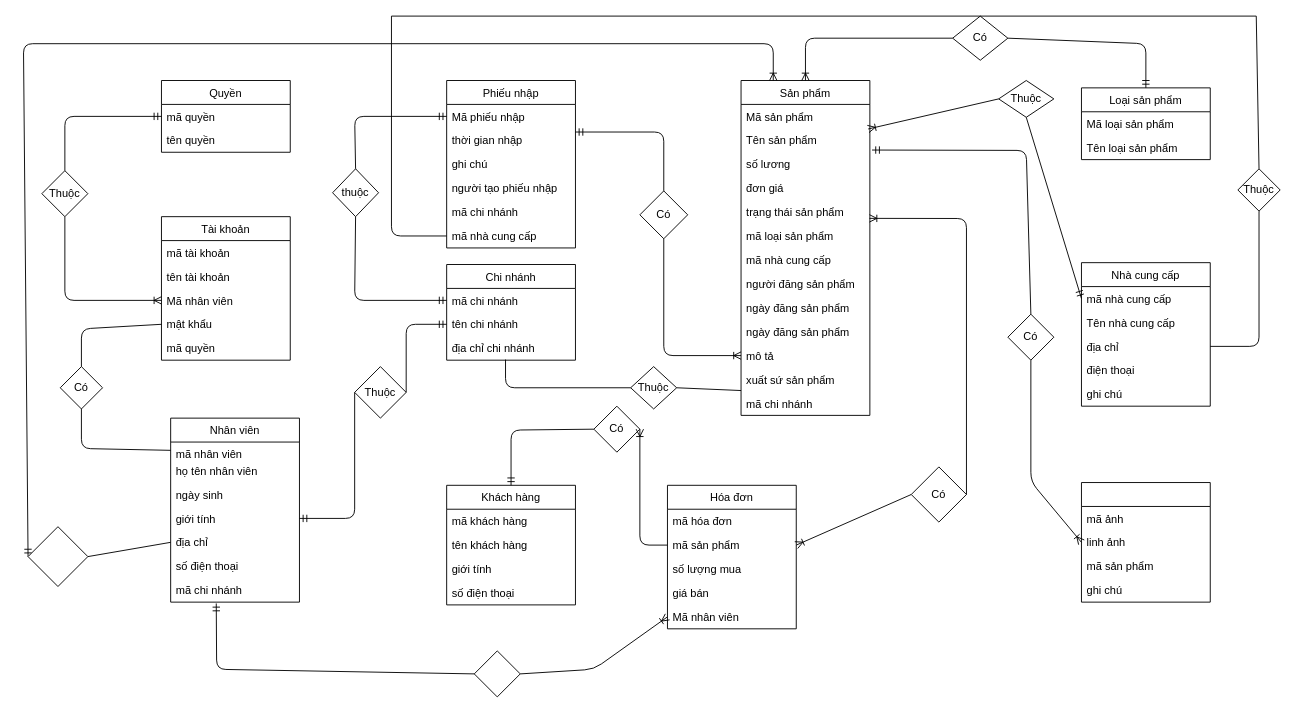
Image size: 1296x713. Some labels were removed from this diagram. Each missing label, with the box of its shape:
hình ảnh: (1081, 482, 1210, 602)
Lập: (473, 650, 520, 697)
Tạo: (27, 526, 88, 586)
